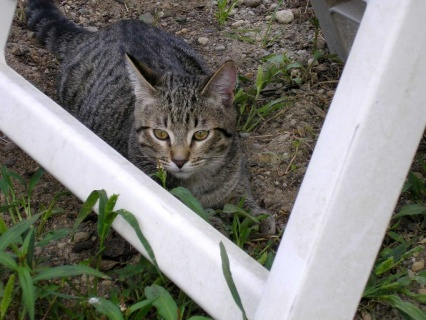Cat: (22, 0, 275, 239)
